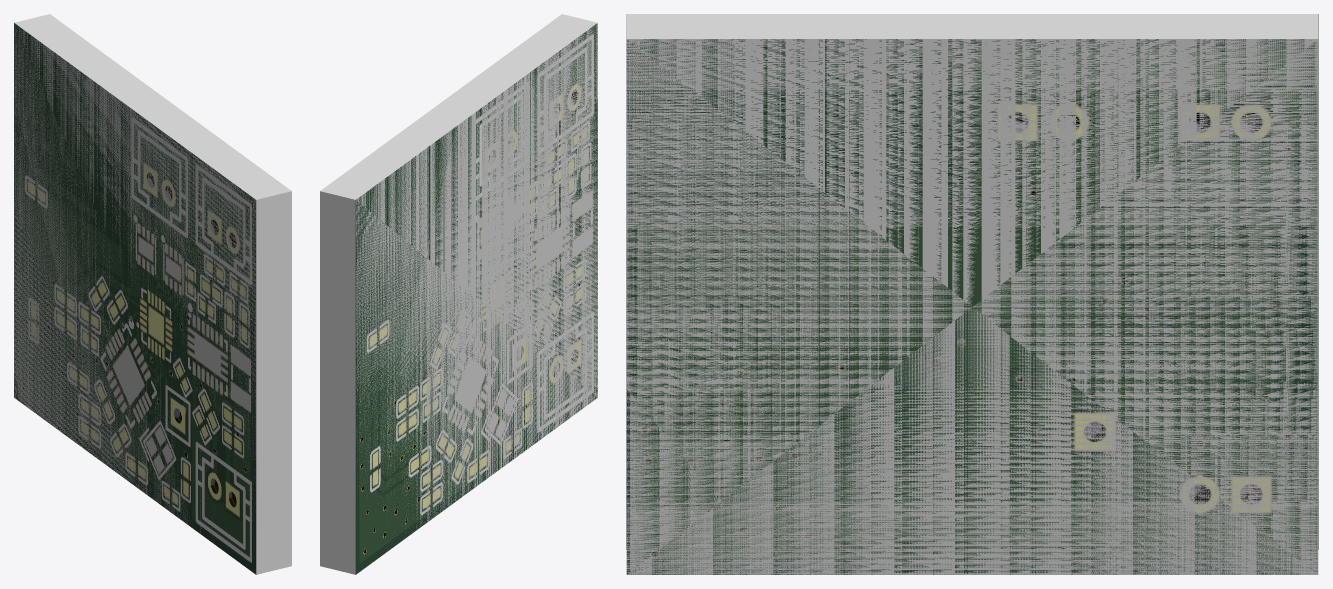
The model's file is pcb(png).glb.
The picture shows the model from 3 angles, left to right: view 1: azimuth 30°, elevation 25°; view 2: azimuth 150°, elevation 25°; view 3: azimuth 270°, elevation 25°; orthographic projection. The views are drawn at different scales.
Visible parts, largest first — view 1: ver3_used_ant_f, Cube; view 2: Cube, ver3_used_ant_f; view 3: Cube, ver3_used_ant_b, ver3_used_ant_f.
Part boxes in pixels (x1=…): ver3_used_ant_f: x1=14, y1=23, x2=256, y2=574; Cube: x1=14, y1=14, x2=291, y2=574; Cube: x1=320, y1=14, x2=597, y2=574; ver3_used_ant_f: x1=355, y1=24, x2=597, y2=574; Cube: x1=626, y1=14, x2=1318, y2=574; ver3_used_ant_b: x1=626, y1=39, x2=1318, y2=574; ver3_used_ant_f: x1=626, y1=14, x2=1318, y2=549.
Size of the model in its own units: 0.1 by 1 by 1.17.
Materials: 2 (2 with a texture image).
